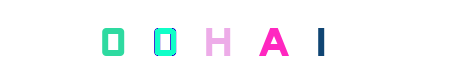0: (97, 0, 177, 80), (183, 0, 263, 80)
A: (234, 0, 314, 80)
H: (188, 0, 268, 80)
I: (243, 0, 323, 80)
